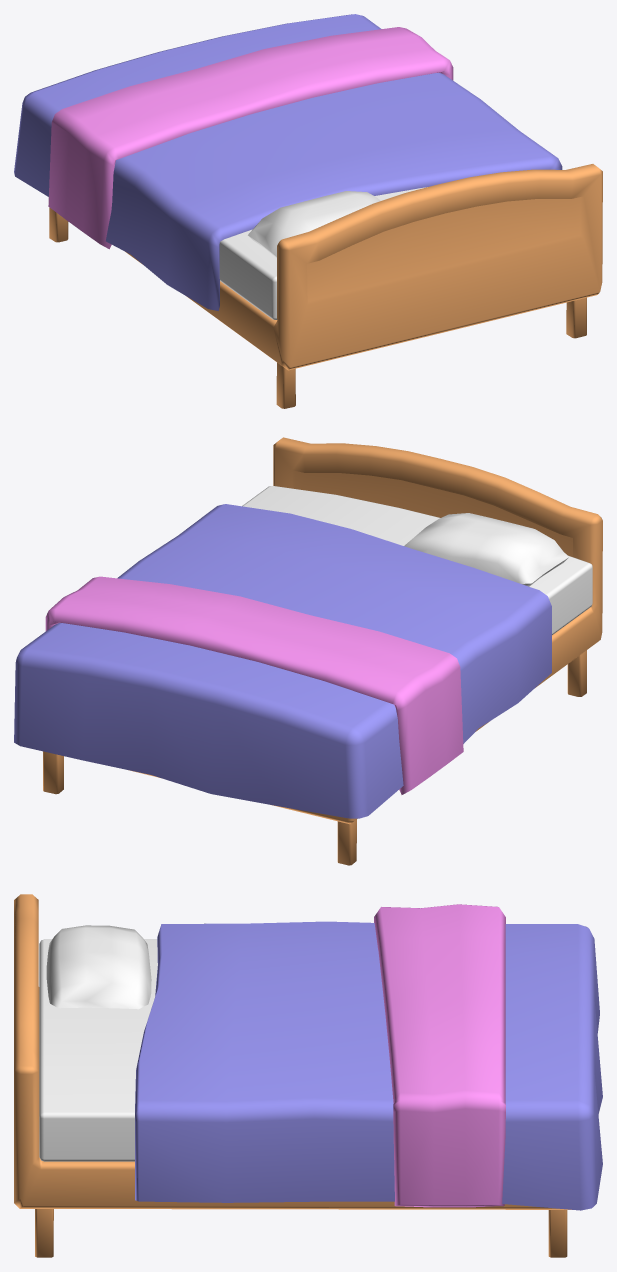
Rendered from Bed_Queen.fbx.
The picture shows the model from 3 angles, top to bottom: view 1: azimuth 30°, elevation 25°; view 2: azimuth 150°, elevation 25°; view 3: azimuth 270°, elevation 25°; orthographic projection. The views are drawn at different scales.
Parts seen in each view (by area): view 1: Bed_Queen, Bed_Pillow; view 2: Bed_Queen, Bed_Pillow; view 3: Bed_Queen, Bed_Pillow.
Part boxes in pixels (box(x1,y1,x2,y2)): Bed_Queen: box(14, 14, 602, 408); Bed_Pillow: box(248, 191, 380, 257); Bed_Queen: box(14, 437, 602, 865); Bed_Pillow: box(404, 513, 568, 586); Bed_Queen: box(14, 894, 602, 1257); Bed_Pillow: box(46, 925, 151, 1009).
Bounding box in the file's own units: 190 × 94.59 × 237.
